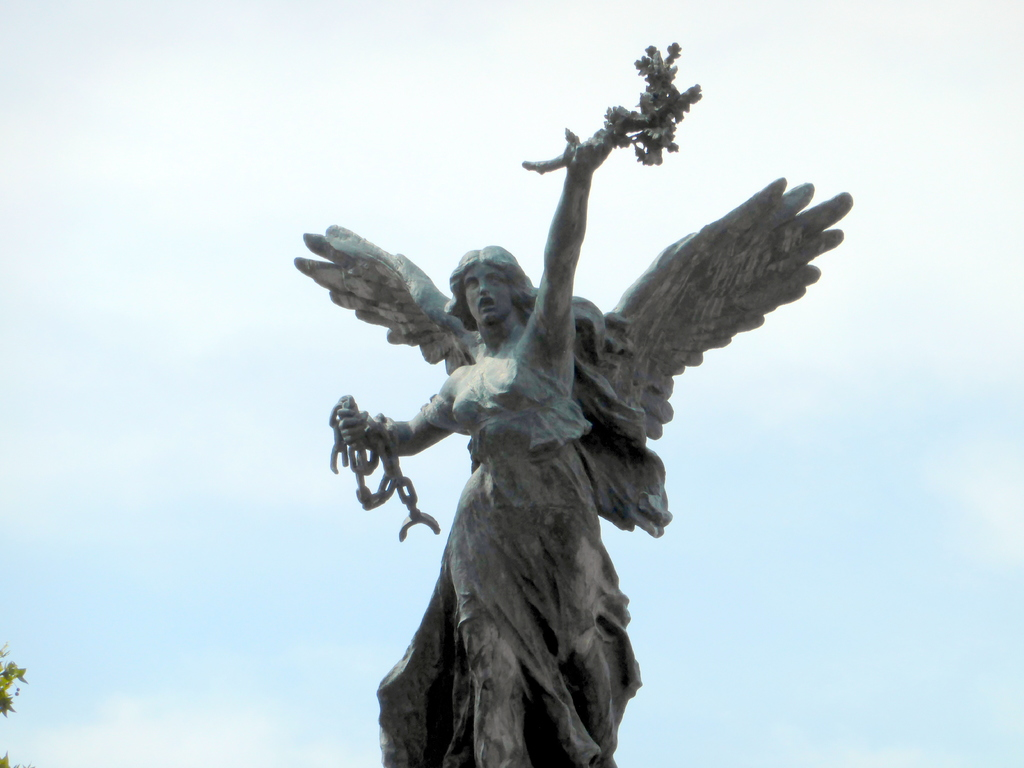Person: (337, 128, 641, 768)
